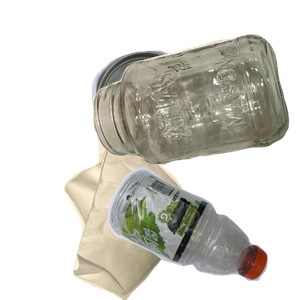glass: (91, 32, 300, 189)
metal: (89, 48, 276, 192)
plastic: (105, 165, 300, 300)
trash: (62, 120, 251, 300)
